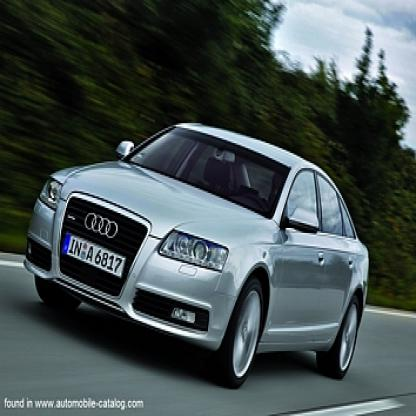Vehicle: (17, 102, 386, 414)
